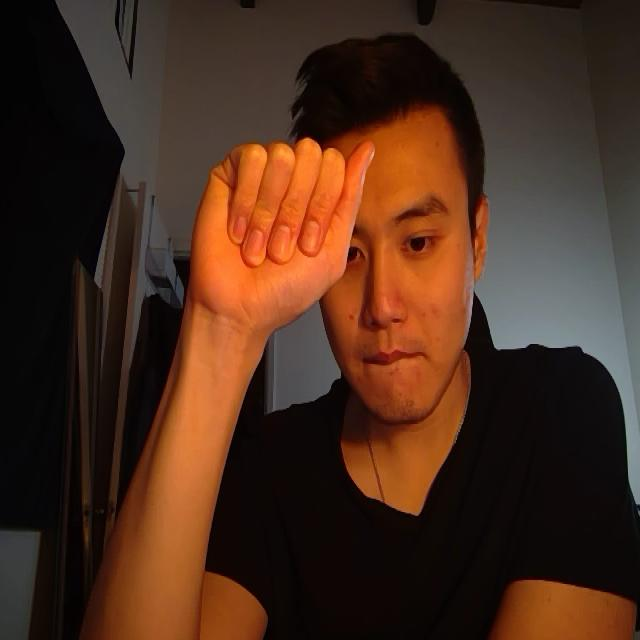A: (163, 96, 398, 408)
